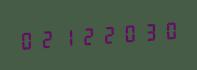one: (57, 22, 76, 51)
three: (137, 17, 156, 45)
two: (77, 21, 96, 50), (37, 24, 56, 52), (97, 20, 116, 48)
zero: (17, 25, 36, 54), (117, 18, 136, 47), (157, 15, 176, 44)
